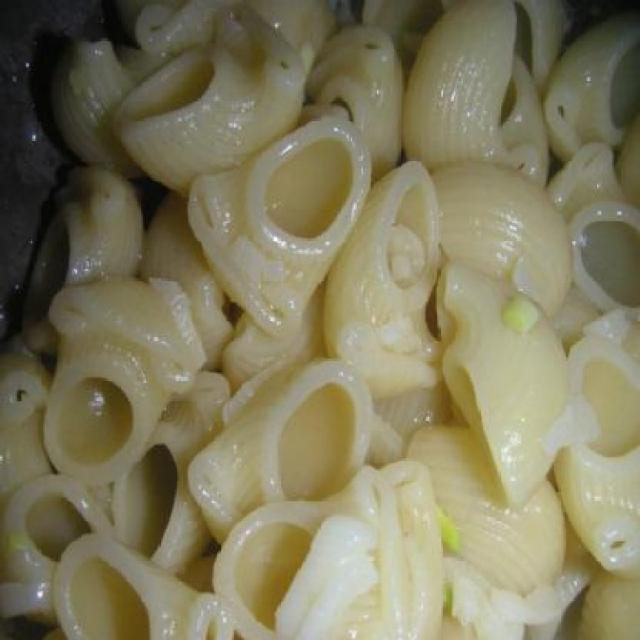Oil pasta: (34, 23, 638, 632)
